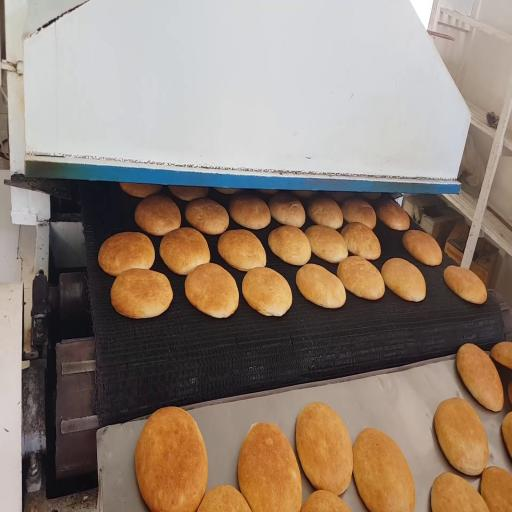bread: (135, 408, 207, 511), (238, 423, 302, 511), (296, 403, 353, 494), (354, 429, 415, 511), (434, 398, 489, 475), (457, 344, 503, 411), (111, 269, 173, 318), (185, 263, 238, 318), (98, 232, 154, 276), (242, 267, 292, 316), (160, 228, 210, 274), (296, 264, 346, 308), (431, 473, 488, 511), (337, 256, 385, 300), (218, 229, 266, 271), (381, 258, 425, 301), (135, 195, 181, 236), (268, 226, 311, 265), (444, 266, 487, 304), (305, 225, 347, 263), (186, 198, 229, 235), (341, 222, 381, 260), (229, 194, 270, 229), (403, 230, 442, 265), (198, 485, 250, 511), (481, 467, 511, 511), (269, 192, 305, 227), (308, 195, 343, 229), (342, 197, 376, 229), (376, 200, 409, 230), (301, 491, 350, 511), (168, 185, 208, 201), (120, 183, 162, 198), (491, 342, 511, 369), (502, 412, 511, 457), (328, 192, 353, 203), (293, 191, 316, 199), (361, 192, 381, 201), (215, 188, 239, 194), (258, 190, 278, 195), (508, 382, 511, 404)
